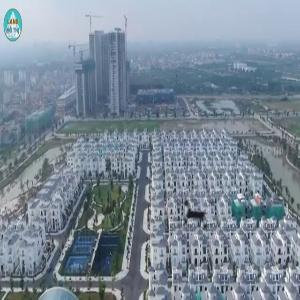drone: (156, 174, 242, 260)
